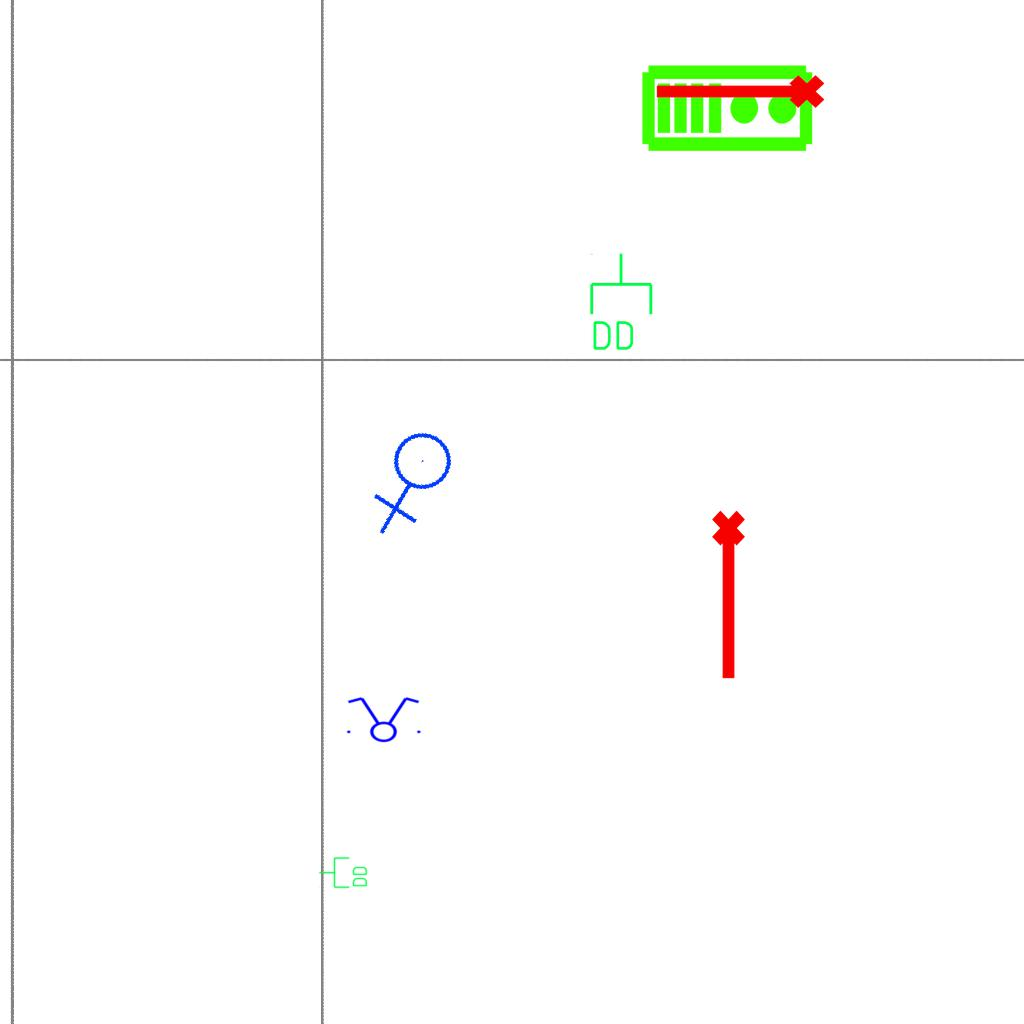ASR_Ansaugoeffnung: (708, 508, 754, 684), (651, 71, 827, 117)
Datenanschluss_zweifach: (586, 251, 655, 354), (318, 856, 369, 890)
Elektroanschluss_allgemein_230V_Geraeteanschlussdose_230V: (354, 422, 477, 540)
Gegensprechanlage_mit_Video: (640, 59, 816, 154)
Serienschalter: (341, 695, 425, 743)
